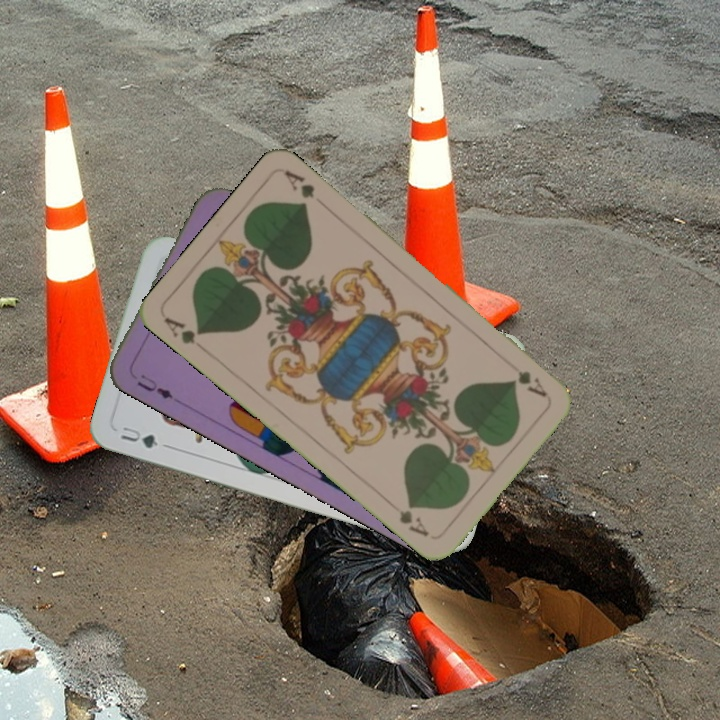EU: (133, 370, 176, 402)
GA: (503, 356, 550, 400), (159, 312, 206, 347)
GU: (116, 423, 161, 451)
